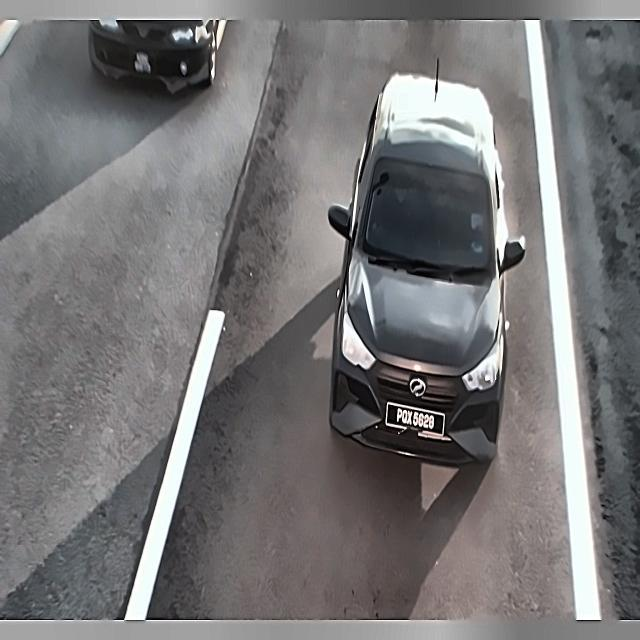car: (384, 391, 446, 443), (130, 47, 158, 80)
